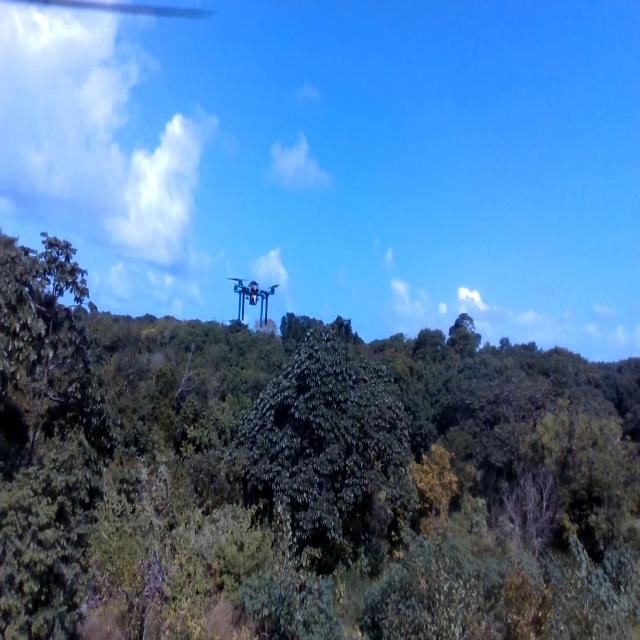-uav-: (222, 256, 296, 341)
